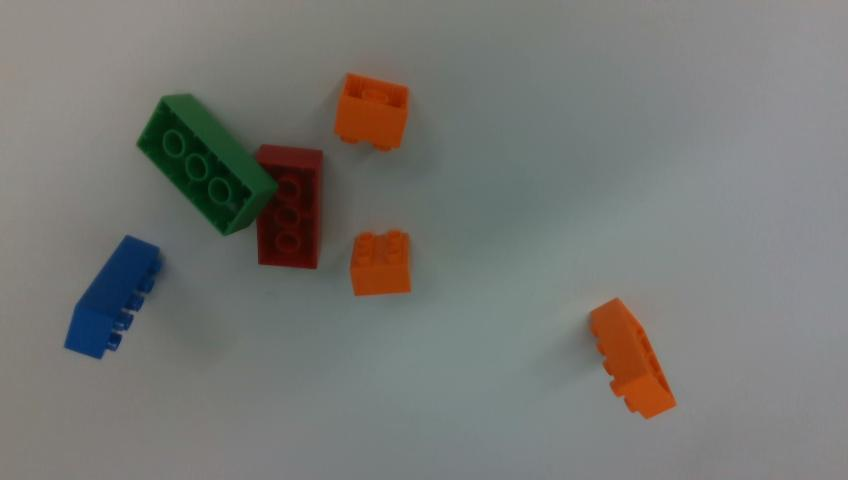2x2_orange: (334, 73, 408, 150), (350, 232, 410, 295)
4x2_blue: (66, 237, 160, 358)
4x2_green: (137, 94, 277, 235)
4x2_orange: (590, 298, 675, 418)
4x2_red: (256, 147, 322, 268)
